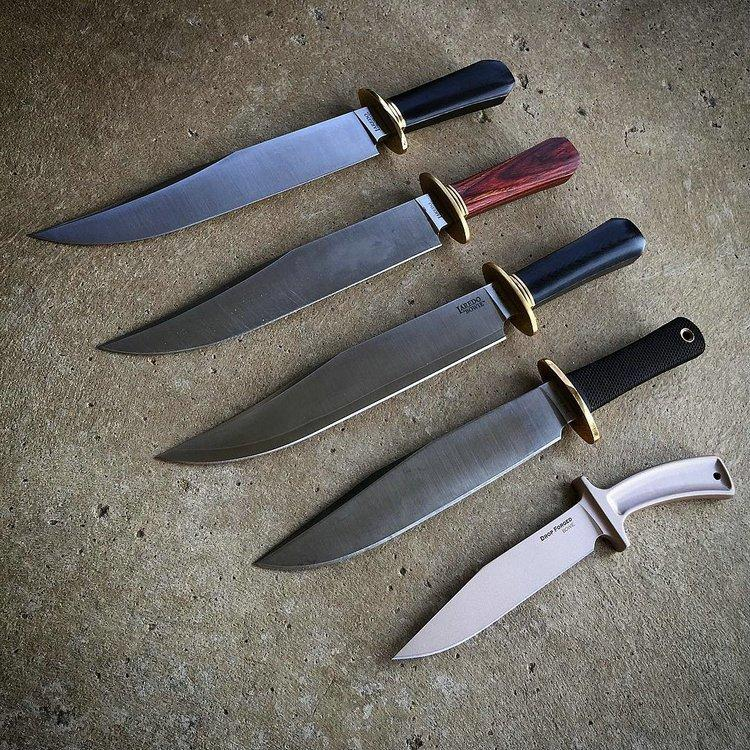knife: (30, 31, 743, 683)
